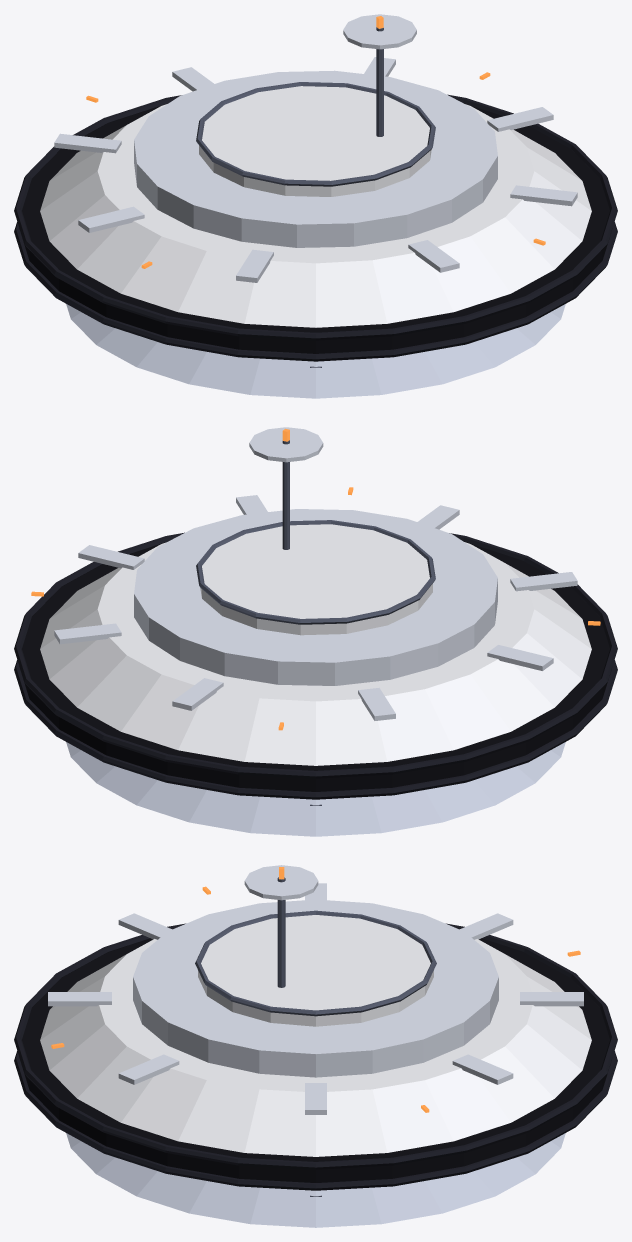
The model's file is jungle_hab_disc.glb.
3 renders of one model, top to bottom at view 1: azimuth 30°, elevation 25°; view 2: azimuth 150°, elevation 25°; view 3: azimuth 270°, elevation 25°, orthographic.
Parts seen in each view (by area): view 1: jungle_hab_disc; view 2: jungle_hab_disc; view 3: jungle_hab_disc.
Boxes of the visible parts, bbox=[...] form: jungle_hab_disc: bbox=[14, 14, 617, 398]; jungle_hab_disc: bbox=[14, 427, 617, 836]; jungle_hab_disc: bbox=[14, 865, 617, 1227].
Size of the model in its own units: 24.56 by 13.82 by 24.56.
